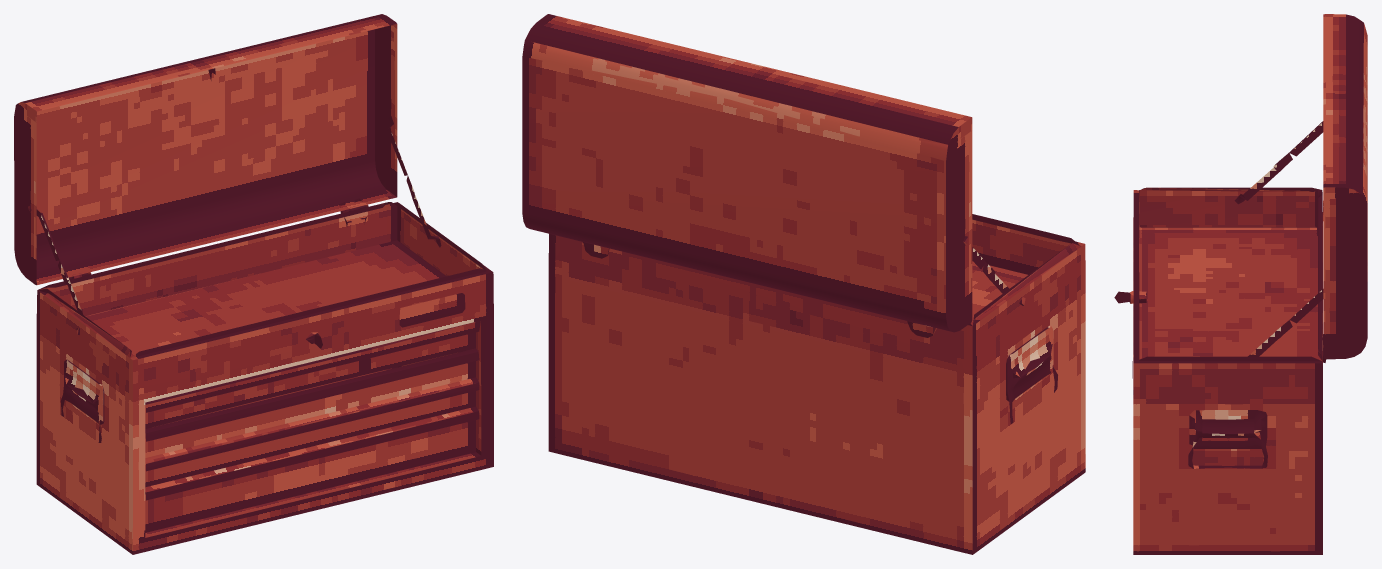
File: metal_tool_chest.glb
3 renders of one model, left to right at view 1: azimuth 30°, elevation 25°; view 2: azimuth 150°, elevation 25°; view 3: azimuth 270°, elevation 25°, orthographic. The views are drawn at different scales.
Parts seen in each view (by area): view 1: mesh; view 2: mesh; view 3: mesh.
Part boxes in pixels (<box>): mesh: <box>14,14,493,554</box>; mesh: <box>522,14,1085,554</box>; mesh: <box>1114,14,1367,554</box>.
Bounding box in the file's own units: 0.6846 × 0.6518 × 0.4069.
Materials: 1 (1 with a texture image).
